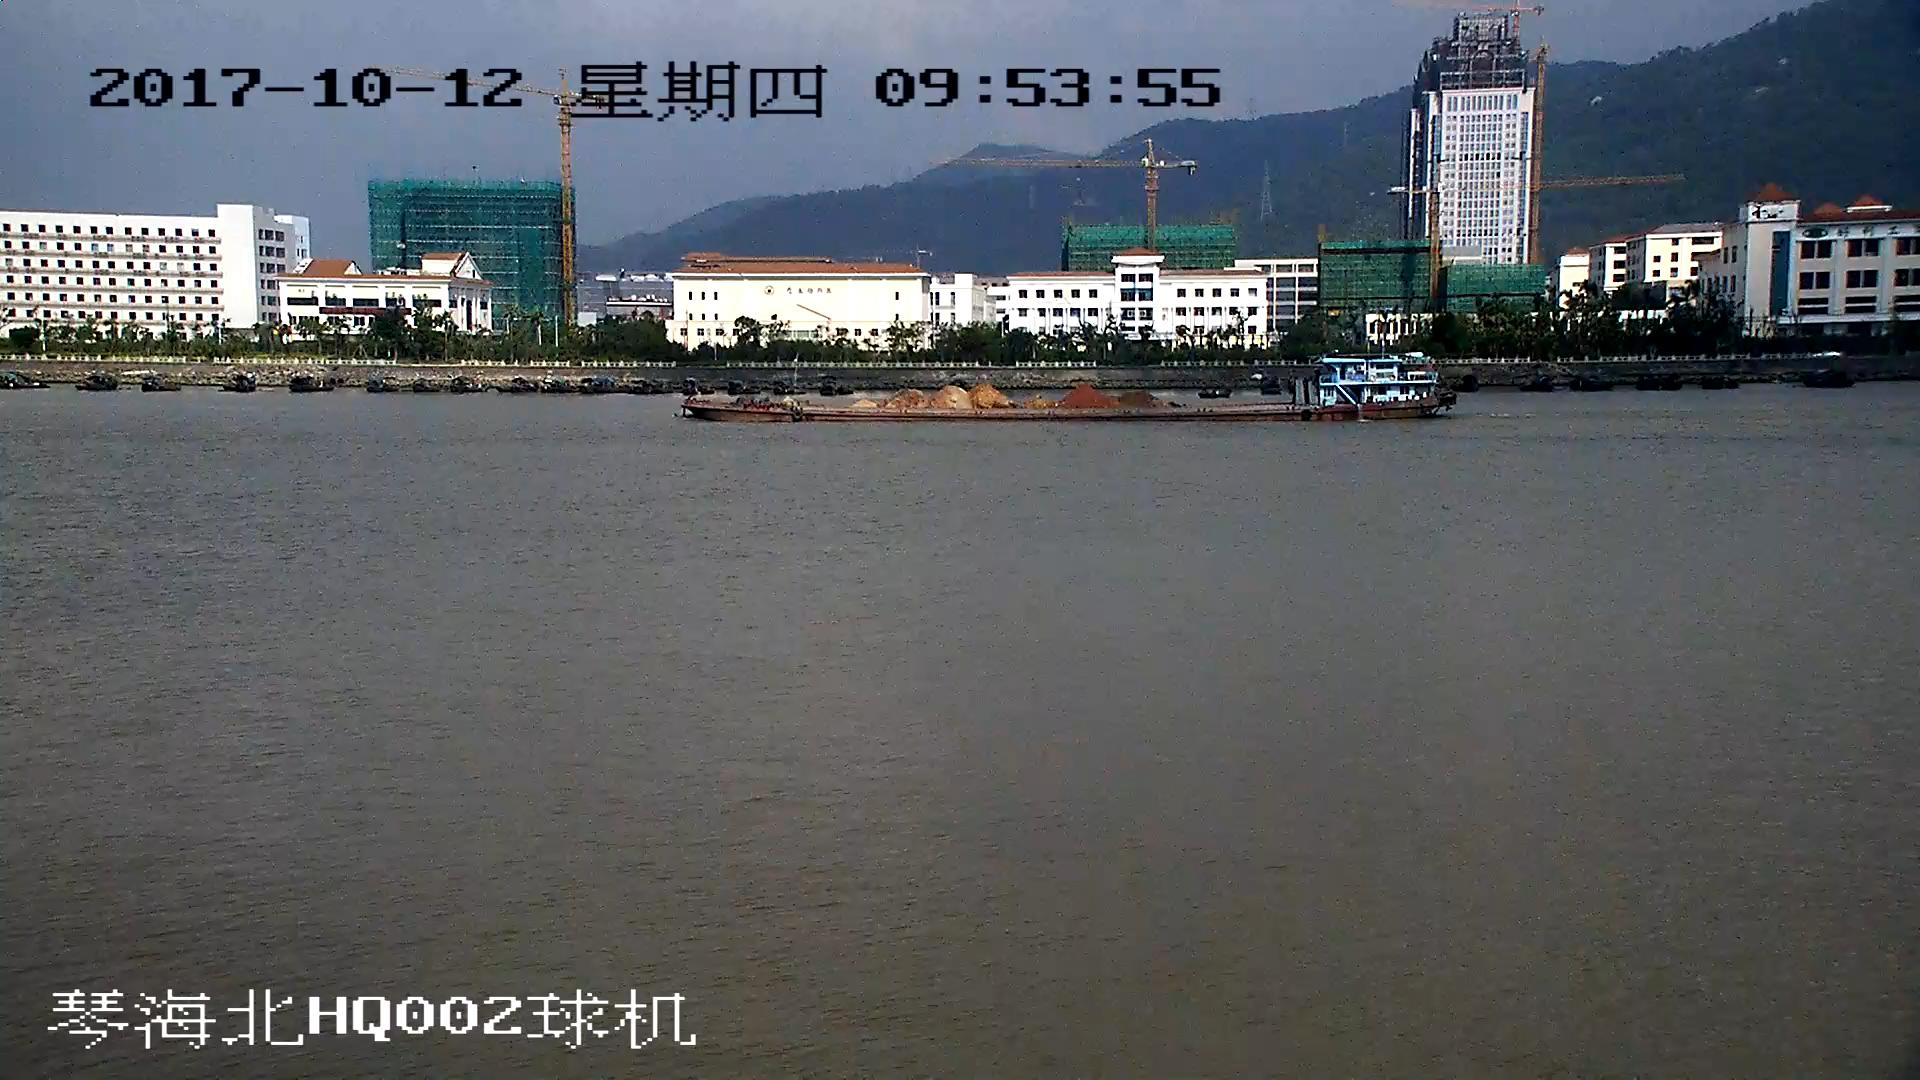ore carrier: (686, 354, 1455, 424)
